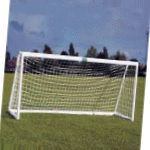goals: (8, 50, 140, 124)
